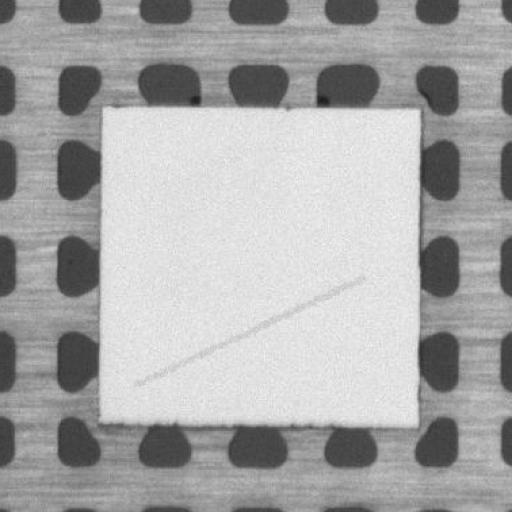DIE_CRACK: (136, 278, 362, 383)
